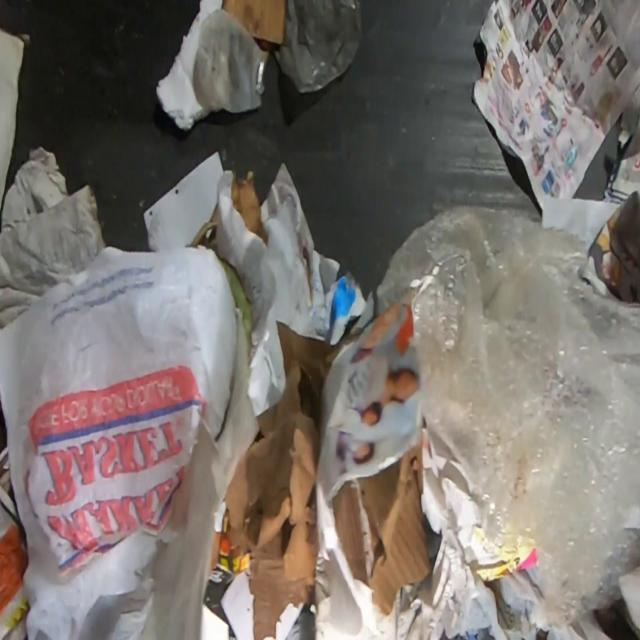cardboard: (222, 0, 286, 44), (232, 167, 267, 243)
soft_plastic: (374, 202, 640, 632), (0, 244, 238, 640), (150, 304, 262, 640), (272, 0, 361, 93), (192, 11, 268, 112), (452, 566, 542, 640)
